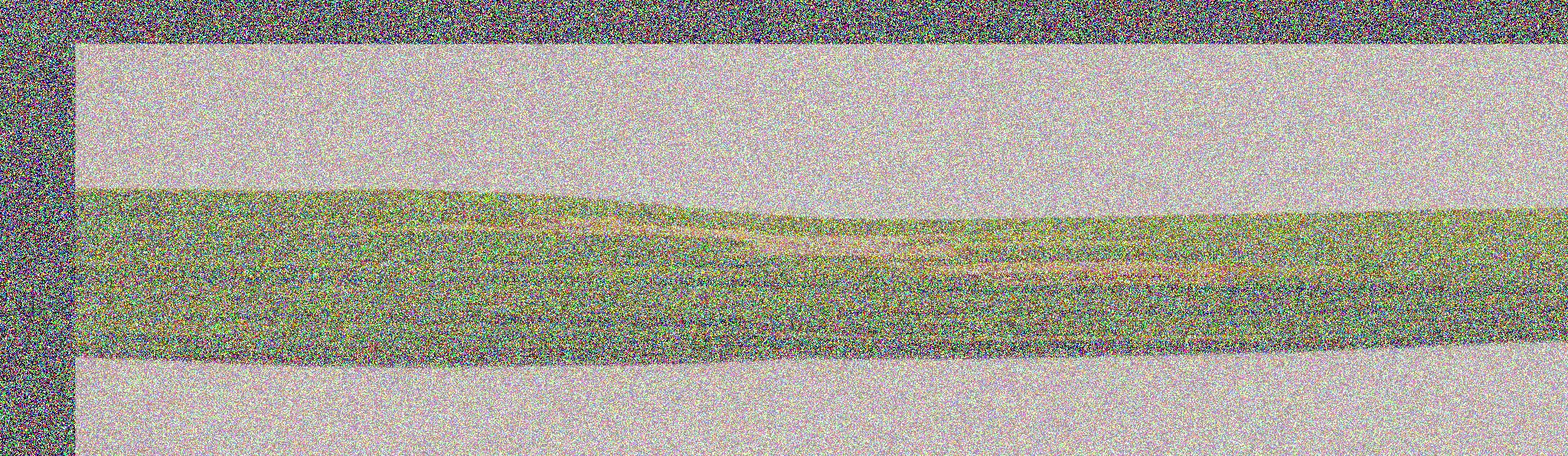Leaf_Blast: (269, 218, 1352, 301)
